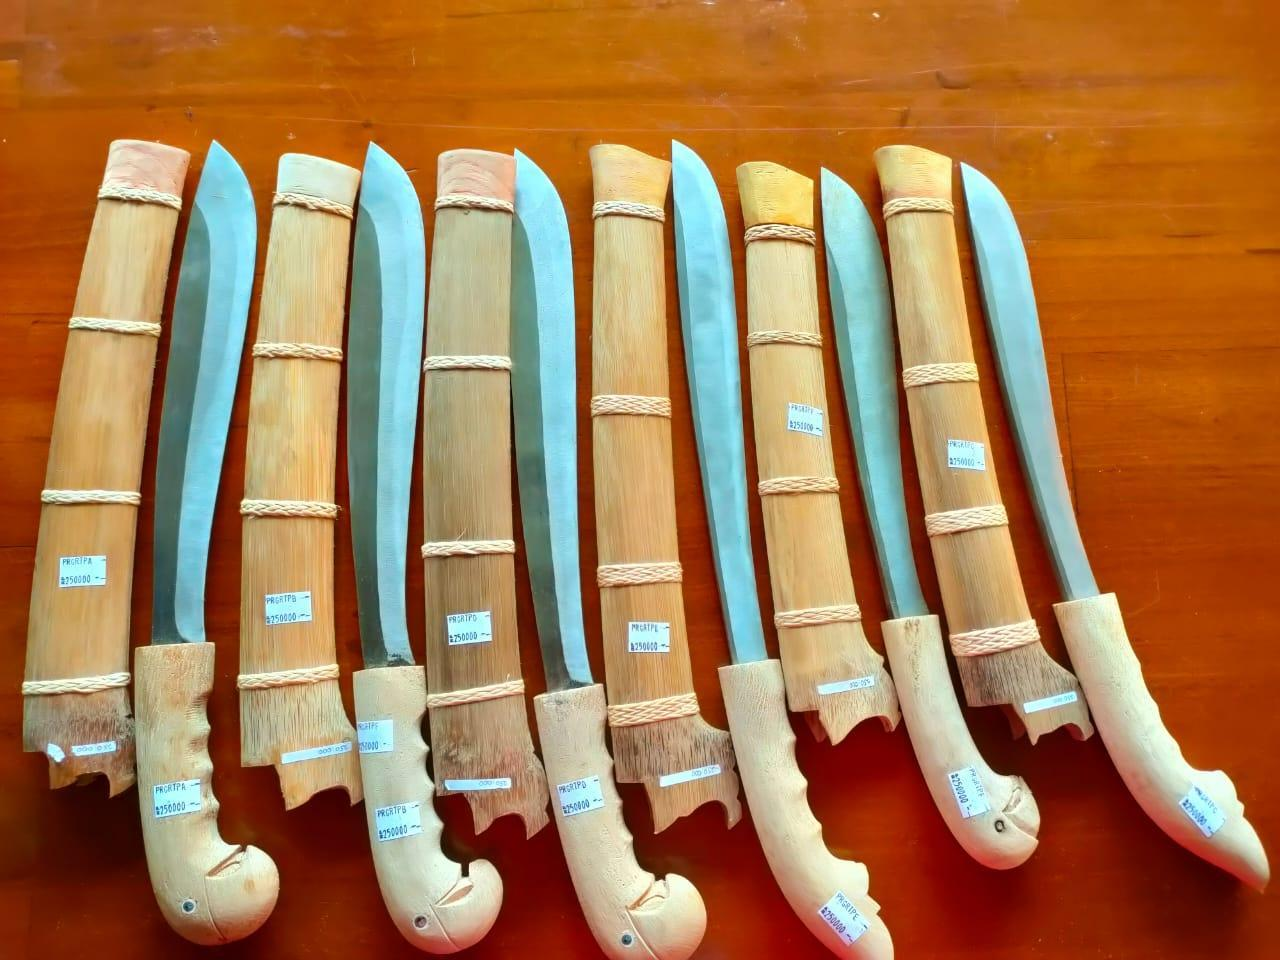facao: (963, 157, 1274, 902), (661, 144, 900, 960), (808, 164, 1047, 871), (516, 140, 713, 960), (342, 141, 495, 958), (132, 137, 281, 960)
